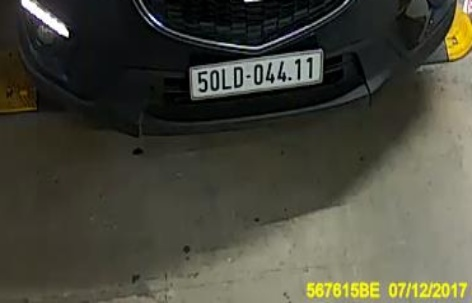plate: (188, 50, 326, 106)
